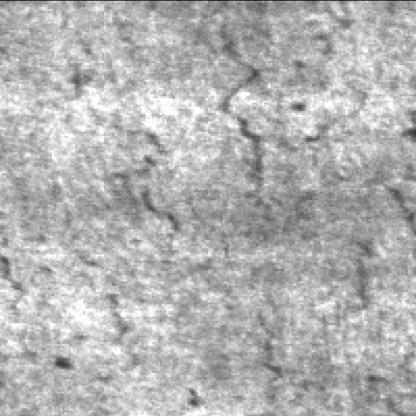crazing: (66, 14, 190, 400), (218, 0, 378, 229), (258, 239, 416, 397)
